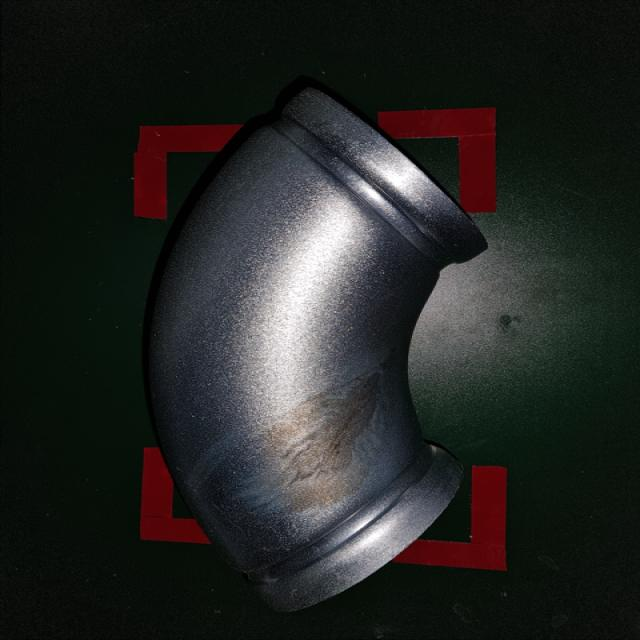Burn: (240, 359, 409, 514)
Defect: (135, 80, 501, 619)
